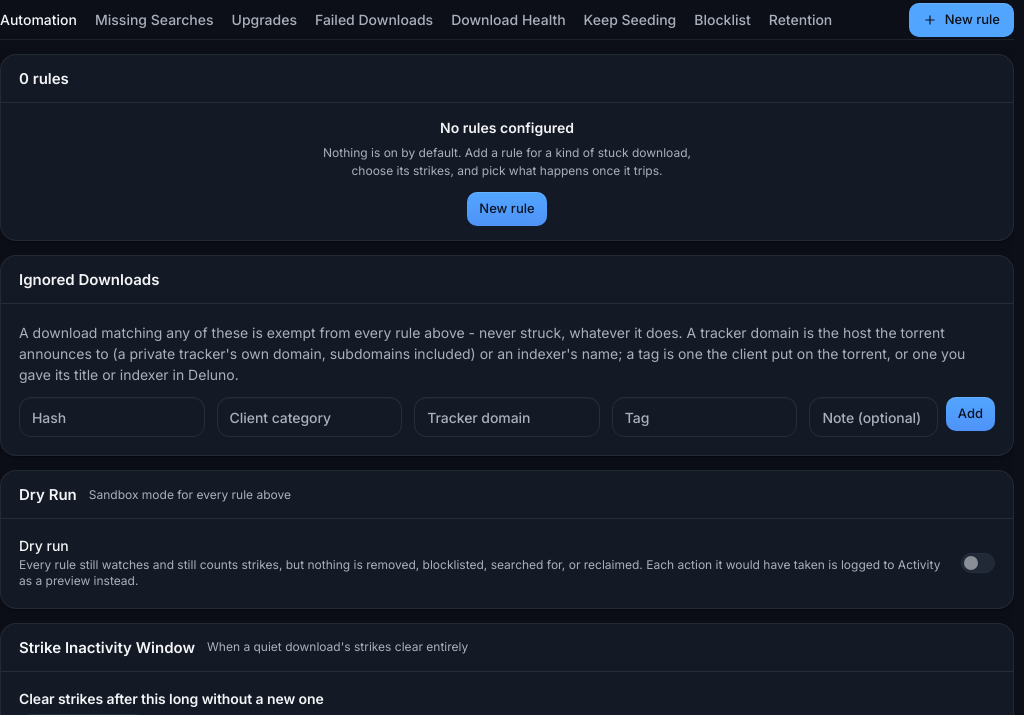
what a rule is checked against before it is sent › each kind asks for its own threshold: speed, peers or a grace period, and No progress asks for none
The width and height of the screenshot is (1024, 715).
Click the button "New rule" in the row of "Keep Seeding".
click(961, 20)  # box [909,2,1014,36]
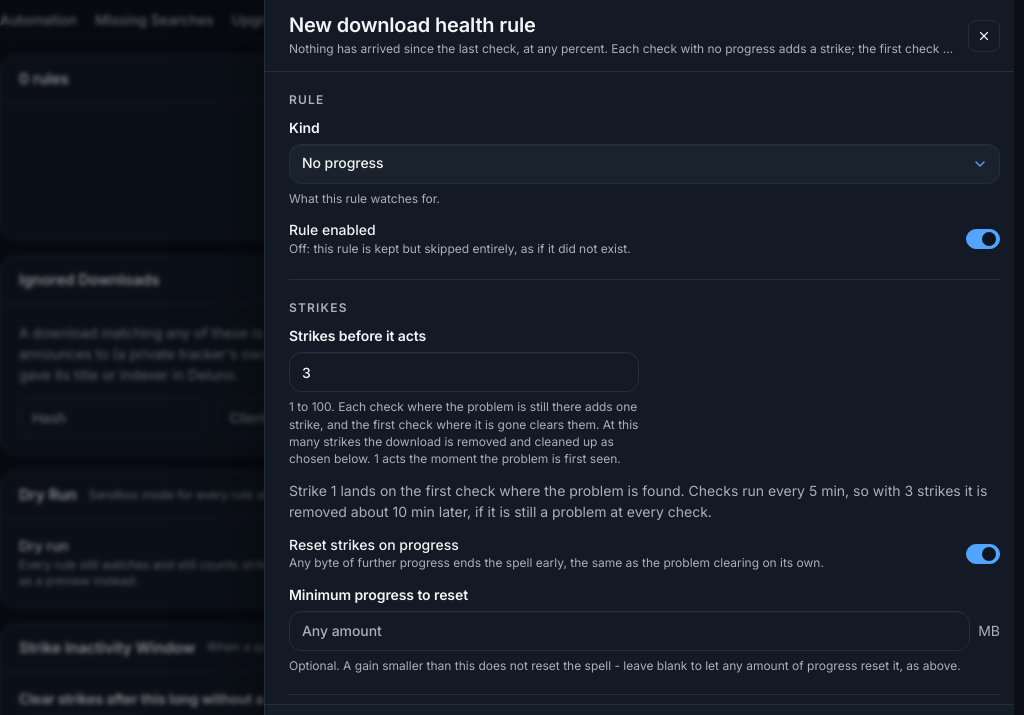
Check: the field labelled "Slower than" is not shown
Select "Too slow" in the dropdown labelled "Kind" at (644, 164), box [289,144,1000,184]
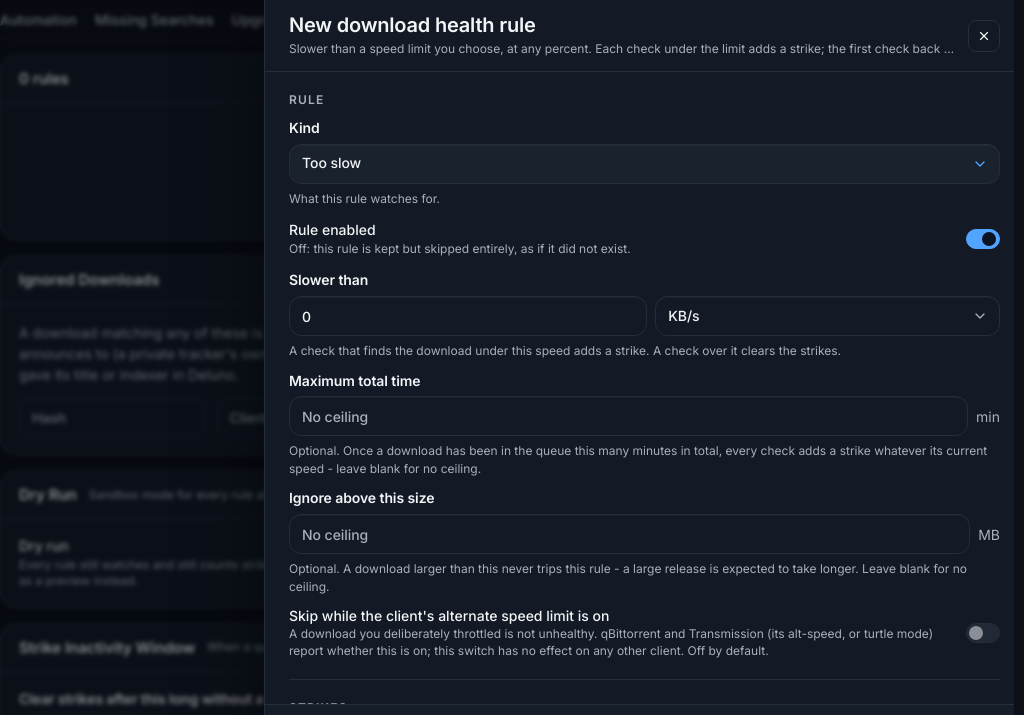
Check: the number field labelled "Slower than" is shown, box [289,296,647,336]
Check: the dropdown named "Speed unit" is shown, box [655,296,1000,336]
Select "Not enough peers" in the dropdown labelled "Kind" at (644, 164), box [289,144,1000,184]
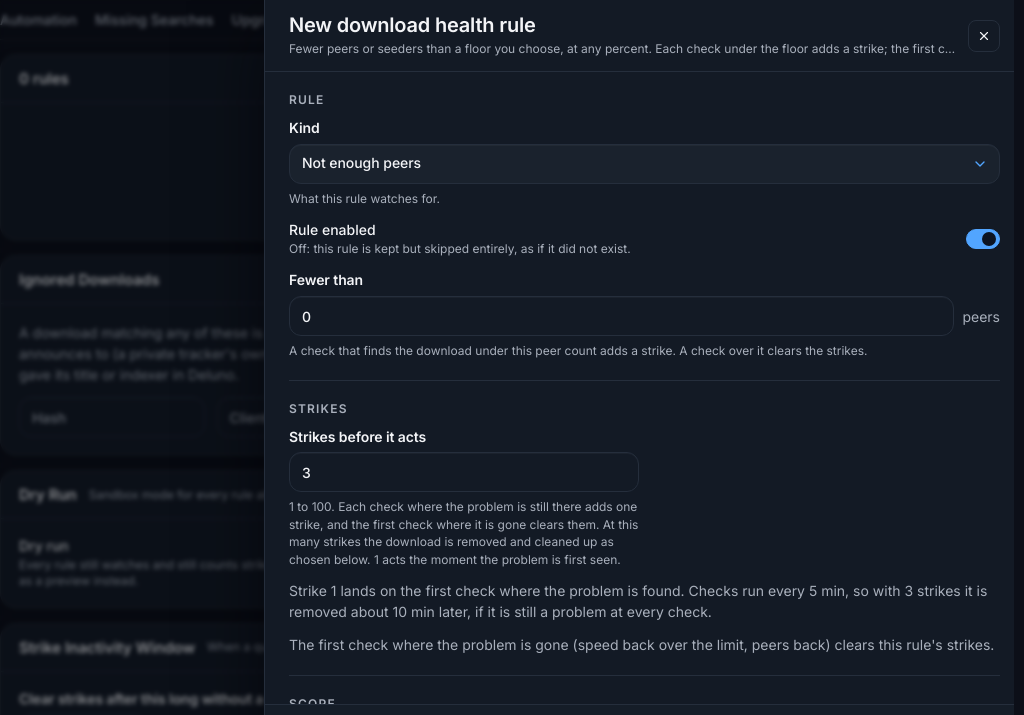
Check: the number field labelled "Fewer than" is shown, box [289,296,954,336]
Select "Dead torrent" in the dropdown labelled "Kind" at (644, 164), box [289,144,1000,184]
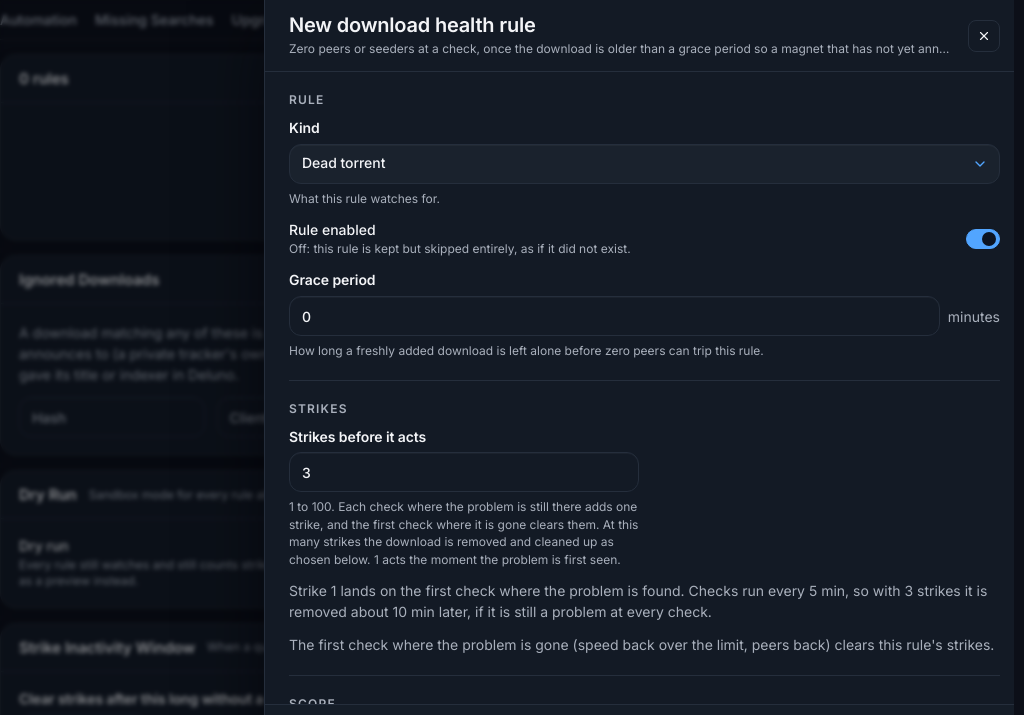
Check: the number field labelled "Grace period" is shown, box [289,296,940,336]
Select "No progress" in the dropdown labelled "Kind" at (644, 164), box [289,144,1000,184]
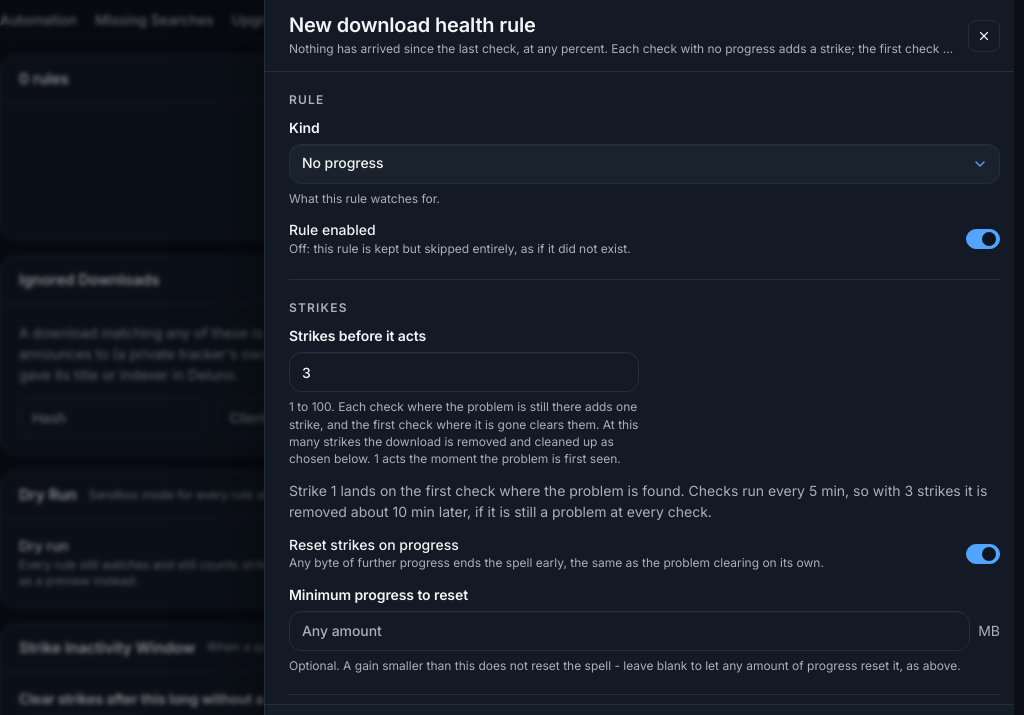
Check: the text labelled "grace period" is gone
